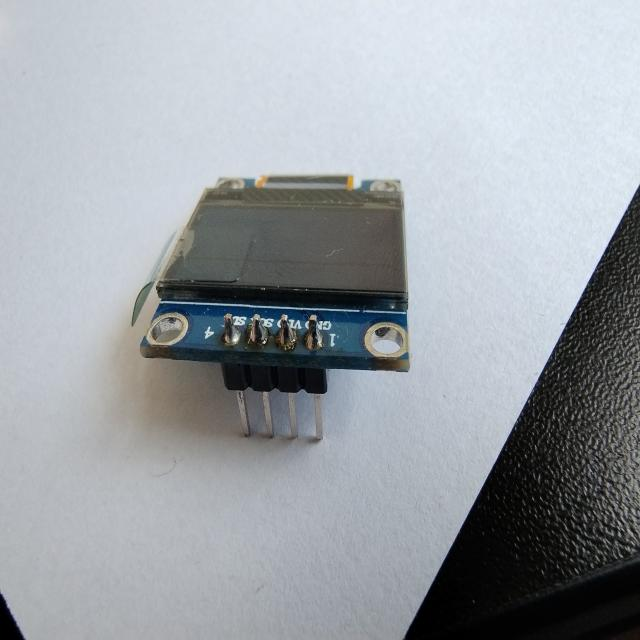oled: (132, 140, 420, 464)
